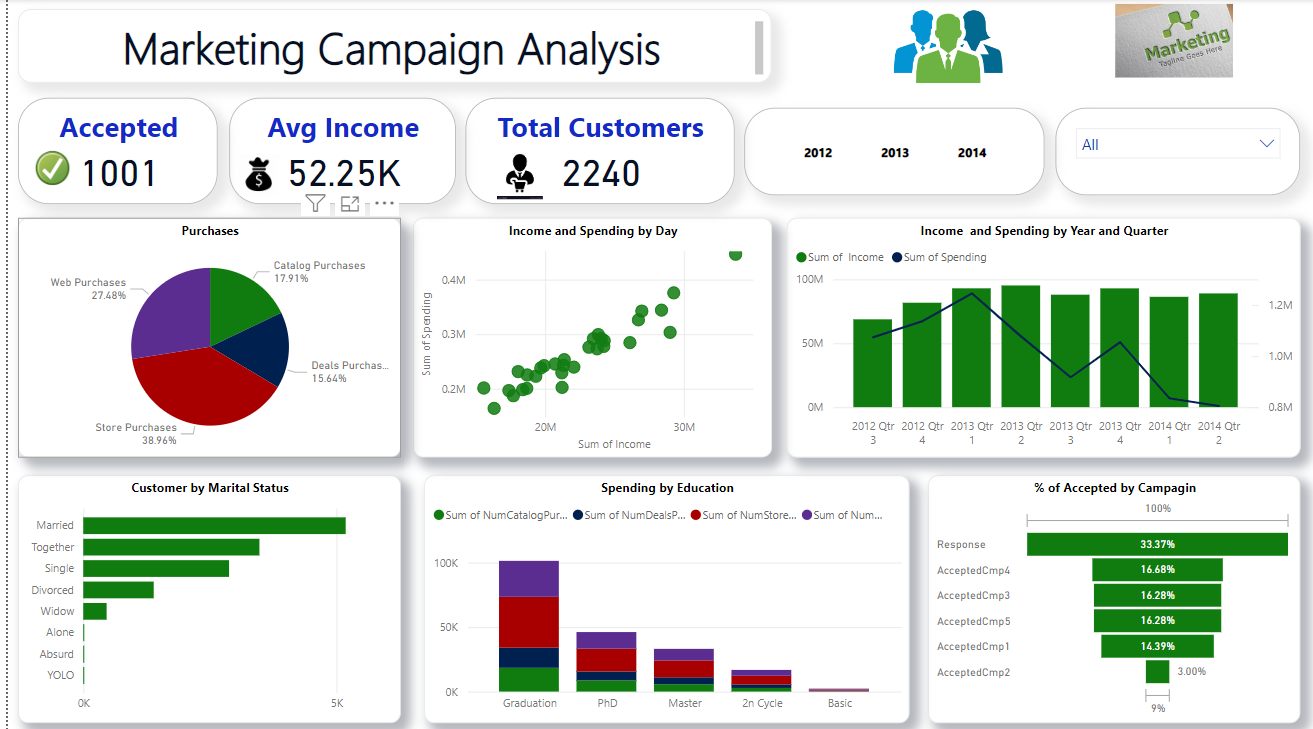

The page's visual inventory and layout, read from the dashboard file:
{"tool":"powerbi","page":{"name":"Marketing Analysis Dashboard","canvas":[1280,720],"ordinal":0},"visuals":[{"type":"textbox","box":[9.8,9.8,737.1,72.1],"z":0},{"type":"scatterChart","title":" Income and Spending by Day","fields":{"X":["Sum(marketing_data. Income )"],"Category":["marketing_data.Dt_Customer.Variation.Date Hierarchy.Day"],"Y":["Sum(marketing_data.Spending)"]},"box":[396.1,213.9,350.8,234.7],"z":1000},{"type":"card","title":"Total Customers","fields":{"Values":["Count(marketing_data.ID)"]},"box":[447.4,96.6,262.8,103.9],"z":2000},{"type":"card","title":"Accepted","fields":{"Values":["Sum(marketing_data.Accepted)"]},"box":[9.8,96.6,195.6,103.9],"z":3000},{"type":"card","title":"Avg Income","fields":{"Values":["Avg(marketing_data. Income )"]},"box":[216.4,96.6,221.3,103.9],"z":4000},{"type":"slicer","fields":{"Values":["marketing_data.Country"]},"box":[1024.4,106.3,239.6,85.6],"z":5000},{"type":"clusteredBarChart","title":"Customer by Education","fields":{"Category":["marketing_data.Education"],"Y":["Count(marketing_data.ID)"]},"box":[1303.9,397.3,211.9,258.7],"z":6000},{"type":"funnel","title":"% of Accepted by Campagin","fields":{"Category":["marketing_data.Campagin"],"Y":["Sum(marketing_data.Accepted)"]},"box":[899.7,465.7,364.3,242],"z":7000},{"type":"clusteredBarChart","title":"Customer by Marital Status","fields":{"Y":["CountNonNull(marketing_data.ID)"],"Category":["marketing_data.Marital_Status"]},"box":[9.8,465.7,374.1,242],"z":8000},{"type":"lineClusteredColumnComboChart","title":" Income  and Spending by Year and Quarter","fields":{"Category":["marketing_data.Dt_Customer.Variation.Date Hierarchy.Year","marketing_data.Dt_Customer.Variation.Date Hierarchy.Quarter"],"Y":["Sum(marketing_data. Income )"],"Y2":["Sum(marketing_data.Spending)"]},"box":[761.6,213.9,502.4,234.7],"z":9000},{"type":"pieChart","title":"Purchases","fields":{"Y":["Sum(marketing_data.NumCatalogPurchases)","Sum(marketing_data.NumDealsPurchases)","Sum(marketing_data.NumStorePurchases)","Sum(marketing_data.NumWebPurchases)"]},"box":[9.8,213.9,374.1,234.7],"z":10000},{"type":"columnChart","title":"Spending by Education","fields":{"Category":["marketing_data.Education"],"Y":["Sum(marketing_data.NumCatalogPurchases)","Sum(marketing_data.NumDealsPurchases)","Sum(marketing_data.NumStorePurchases)","Sum(marketing_data.NumWebPurchases)"]},"box":[407.1,465.7,474.3,242],"z":11000},{"type":"slicer","fields":{"Values":["marketing_data.Year"]},"box":[720,106.3,293.4,85.6],"z":12000},{"type":"image","box":[1024.4,0,232.3,81.9],"z":13000},{"type":"image","box":[777.5,0,277.5,96.6],"z":14000},{"type":"image","box":[469.4,143,62.3,57.5],"z":15000},{"type":"image","box":[18.3,143,50.1,44],"z":16000},{"type":"image","box":[216.4,147.9,57.5,48.9],"z":17000}]}

Visuals, with their boxes in screenshot pixels (x1, y1, x2, y2), scaled from the page's 1280x720 canvas onto the 1313x729 screenshot:
textbox: [x1=10, y1=10, x2=766, y2=83]
" Income and Spending by Day" scatterChart: [x1=406, y1=217, x2=766, y2=454]
"Total Customers" card: [x1=459, y1=98, x2=729, y2=203]
"Accepted" card: [x1=10, y1=98, x2=211, y2=203]
"Avg Income" card: [x1=222, y1=98, x2=449, y2=203]
slicer - marketing_data.Country: [x1=1051, y1=108, x2=1297, y2=194]
"% of Accepted by Campagin" funnel: [x1=923, y1=472, x2=1297, y2=717]
"Customer by Marital Status" clusteredBarChart: [x1=10, y1=472, x2=394, y2=717]
" Income  and Spending by Year and Quarter" lineClusteredColumnComboChart: [x1=781, y1=217, x2=1297, y2=454]
"Purchases" pieChart: [x1=10, y1=217, x2=394, y2=454]
"Spending by Education" columnChart: [x1=418, y1=472, x2=904, y2=717]
slicer - marketing_data.Year: [x1=739, y1=108, x2=1040, y2=194]
image: [x1=1051, y1=0, x2=1289, y2=83]
image: [x1=798, y1=0, x2=1082, y2=98]
image: [x1=482, y1=145, x2=545, y2=203]
image: [x1=19, y1=145, x2=70, y2=189]
image: [x1=222, y1=150, x2=281, y2=199]
